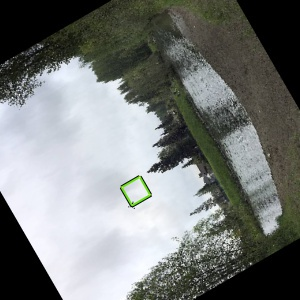square: (119, 174, 153, 207)
